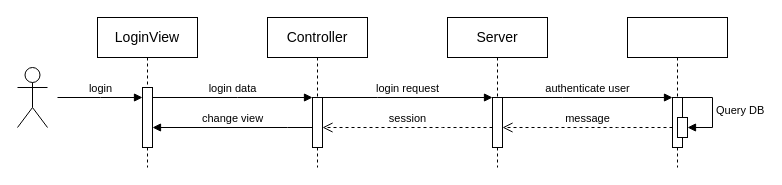
Some shapes in this 782 by 185 pixel diagram are drawn without their labels. The centre of each missing label's shape, as x and y in pixels:
"Client" goes at [32,97].
"Model" goes at [677,92].
